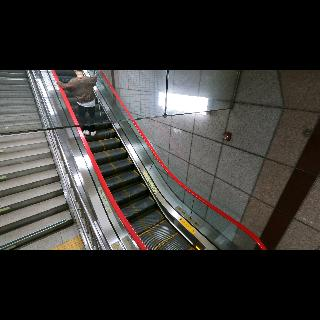normal: (56, 70, 106, 140)
